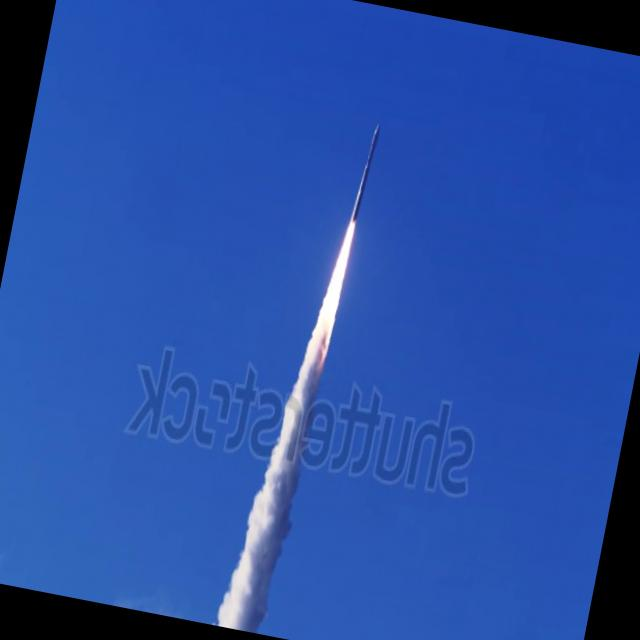rocket: (263, 106, 388, 483)
